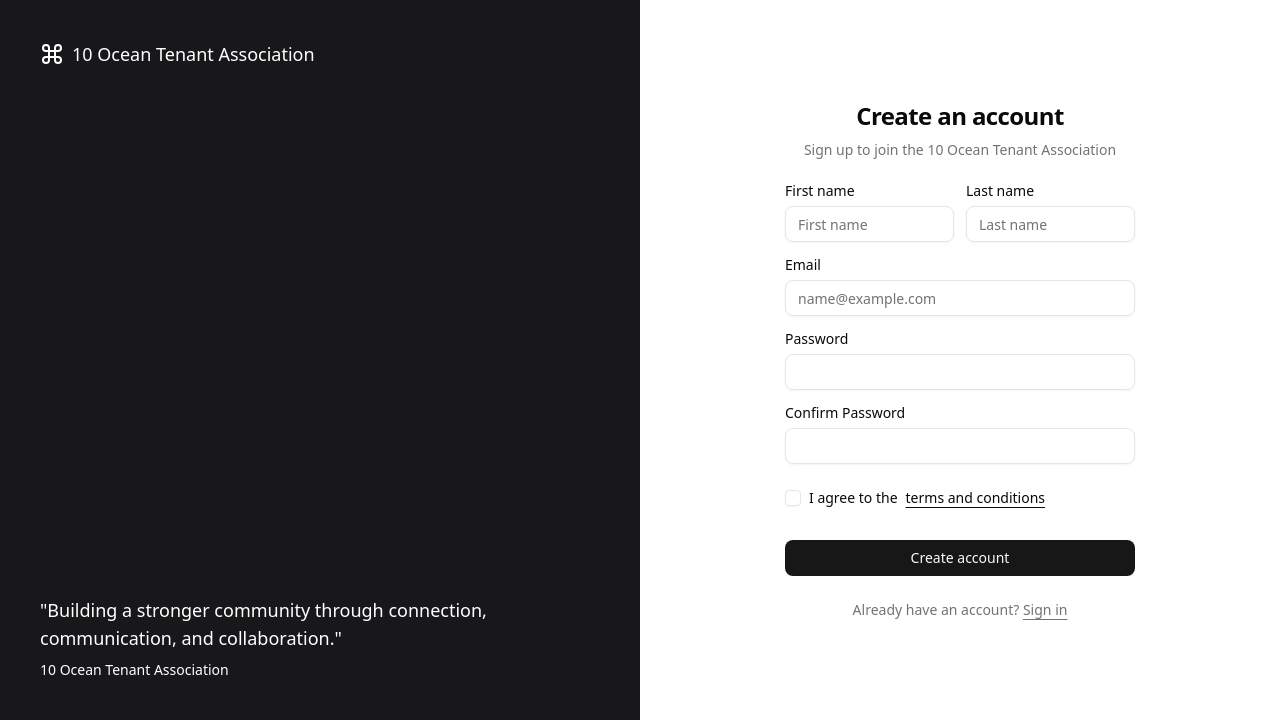
Test case: RegisterPage › submits the form successfully with valid data
The image size is (1280, 720).
# Fill in all required fields
Type "John" into the field labelled "First name" at (870, 224), box [785,206,954,242]
Type "Doe" into the field labelled "Last name" at (1050, 224), box [966,206,1135,242]
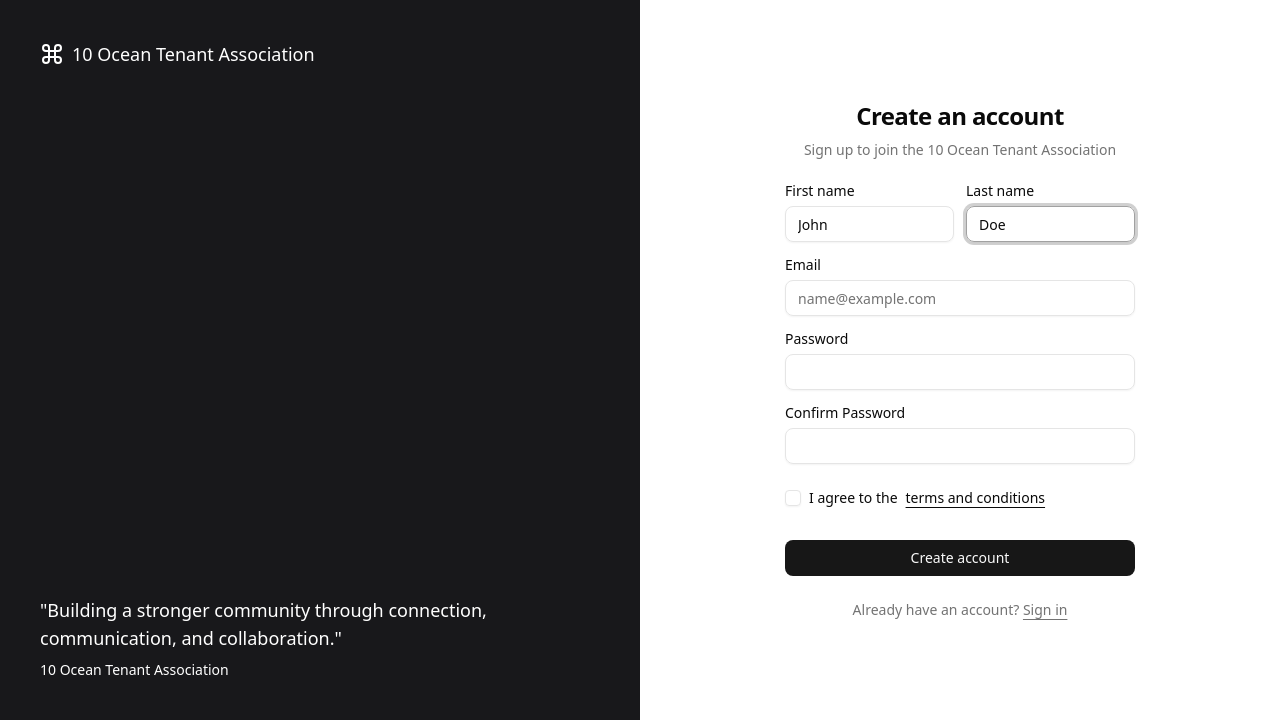
Type "john.doe@example.com" into the field labelled "Email" at (960, 298), box [785,280,1135,316]
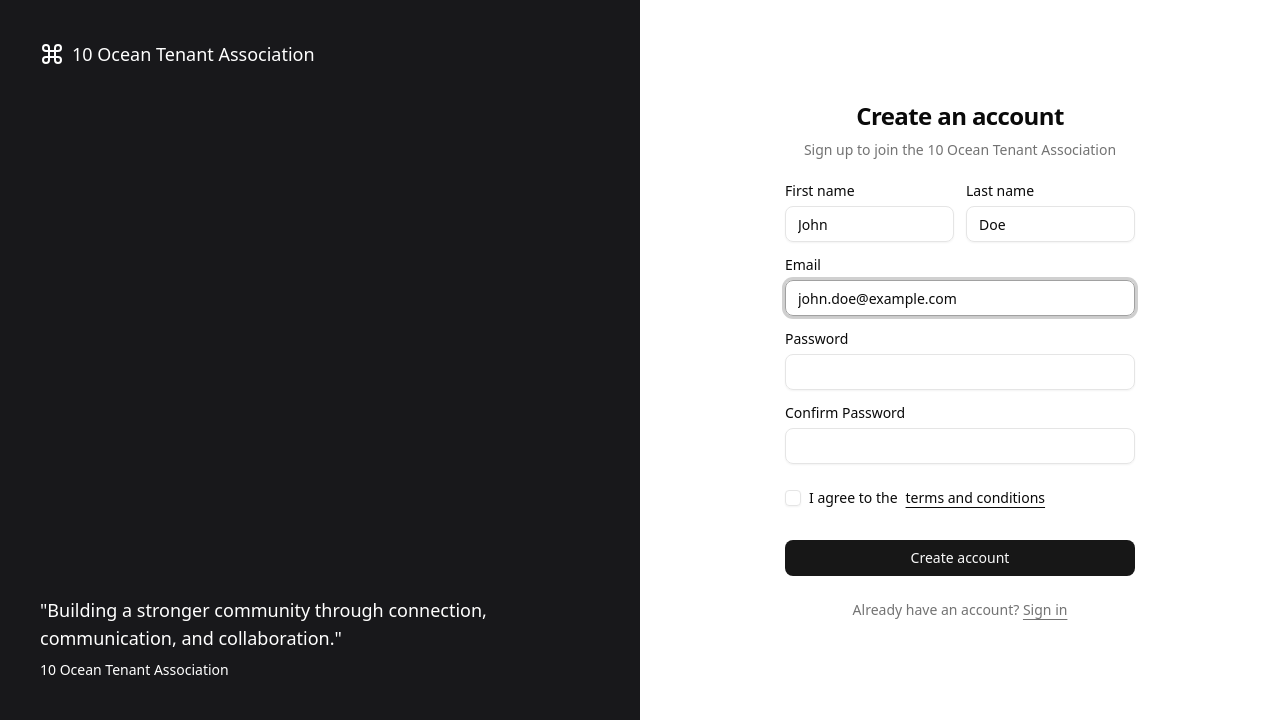
Type "Password123" into the password field with test id "password-field" at (960, 372), box [785,354,1135,390]
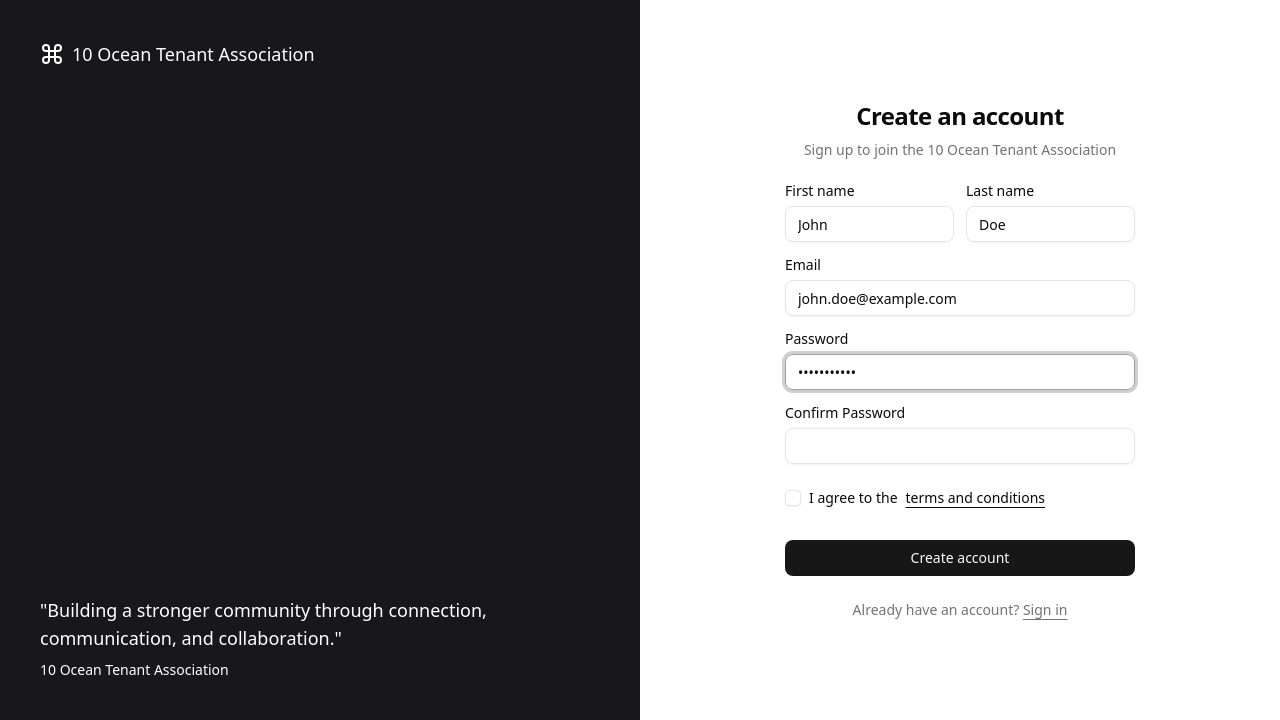
Type "Password123" into the password field with test id "confirm-password-field" at (960, 446), box [785,428,1135,464]
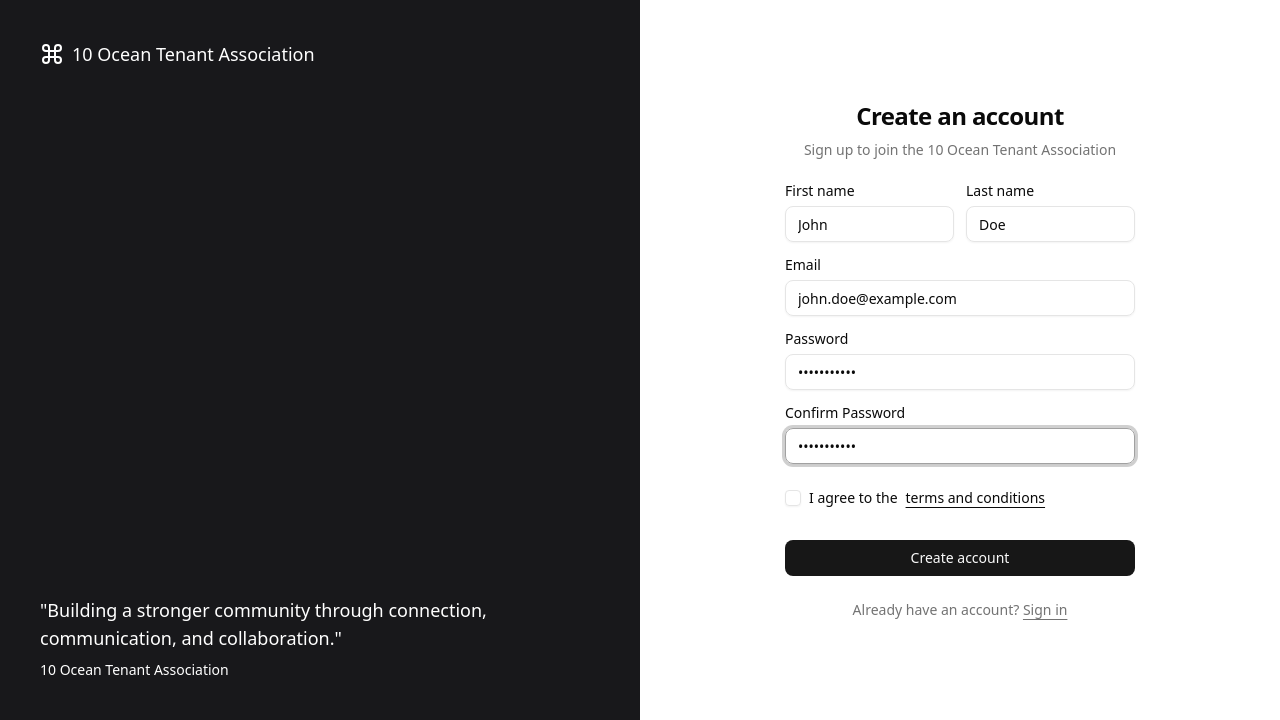
Click the checkbox named "I agree to the terms and conditions" at (793, 498), box [785,490,801,506]
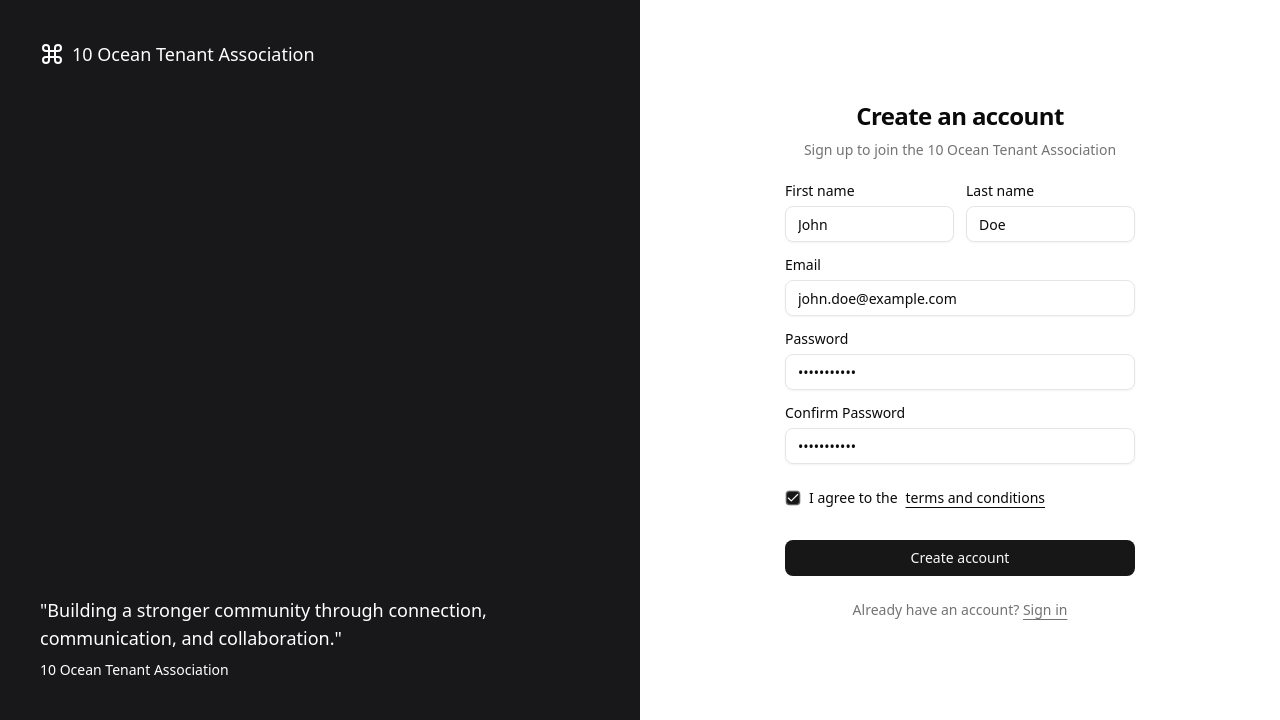
# Submit the form
Click the button "Create account" at (960, 558), box [785,540,1135,576]
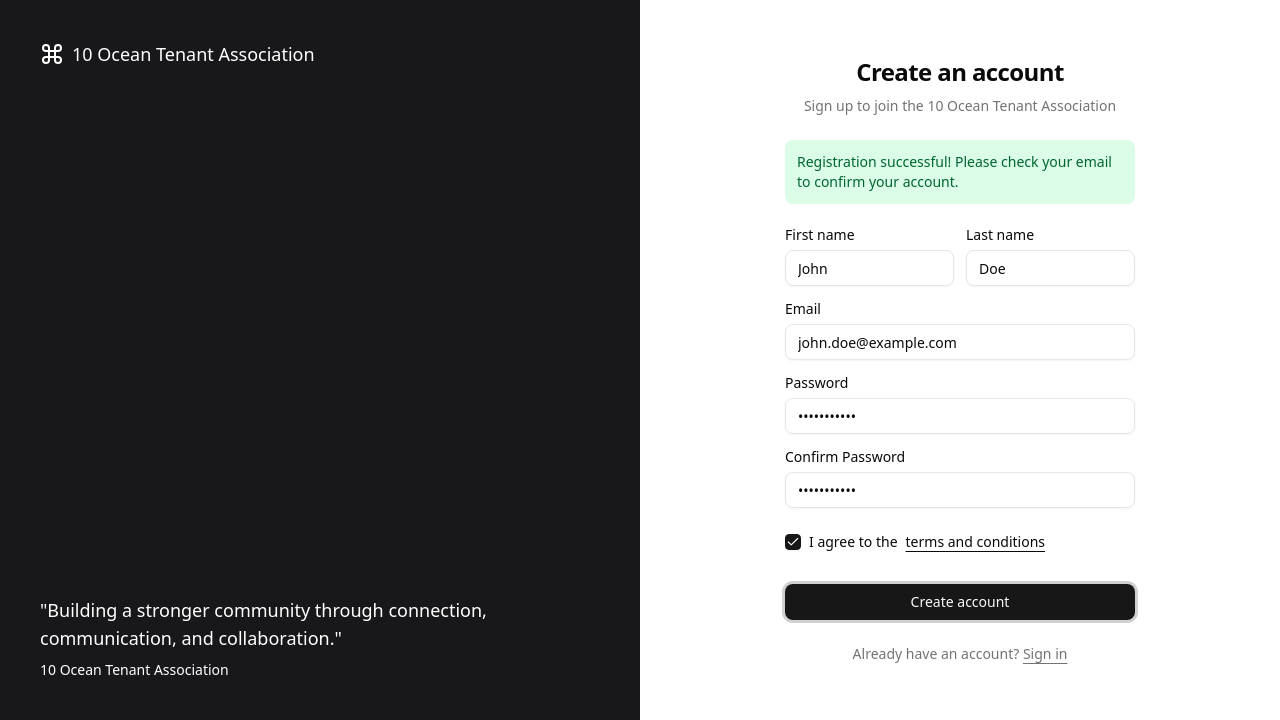
Expected: the text "Registration successful" is shown, [797,152,1112,191]
